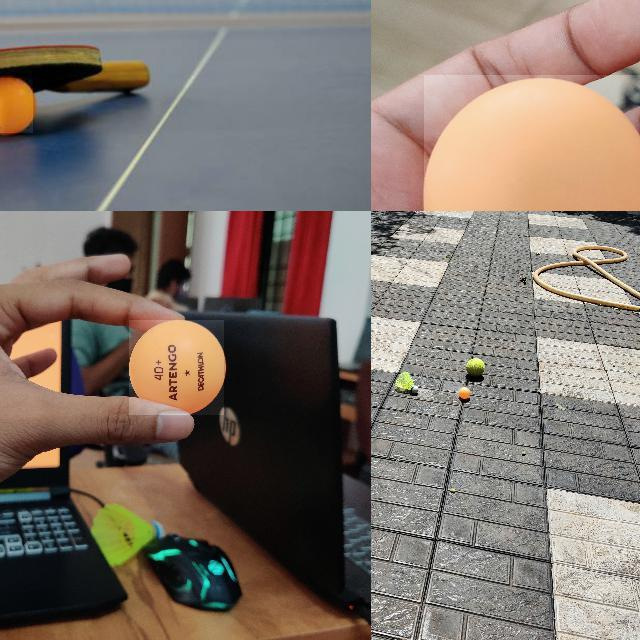ping-pong-ball: (424, 75, 639, 210), (129, 320, 225, 416), (0, 78, 35, 135), (458, 387, 470, 401)
